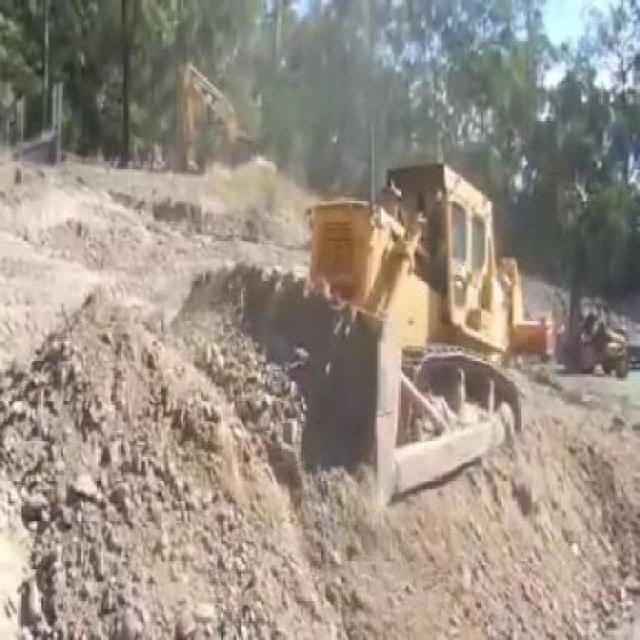Bulldozer: (186, 155, 557, 511)
Excavator: (179, 68, 275, 169)
